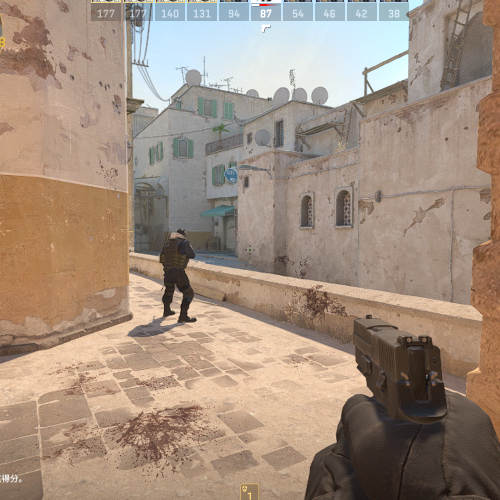ct_body: (159, 227, 197, 323)
ct_head: (169, 227, 187, 240)
